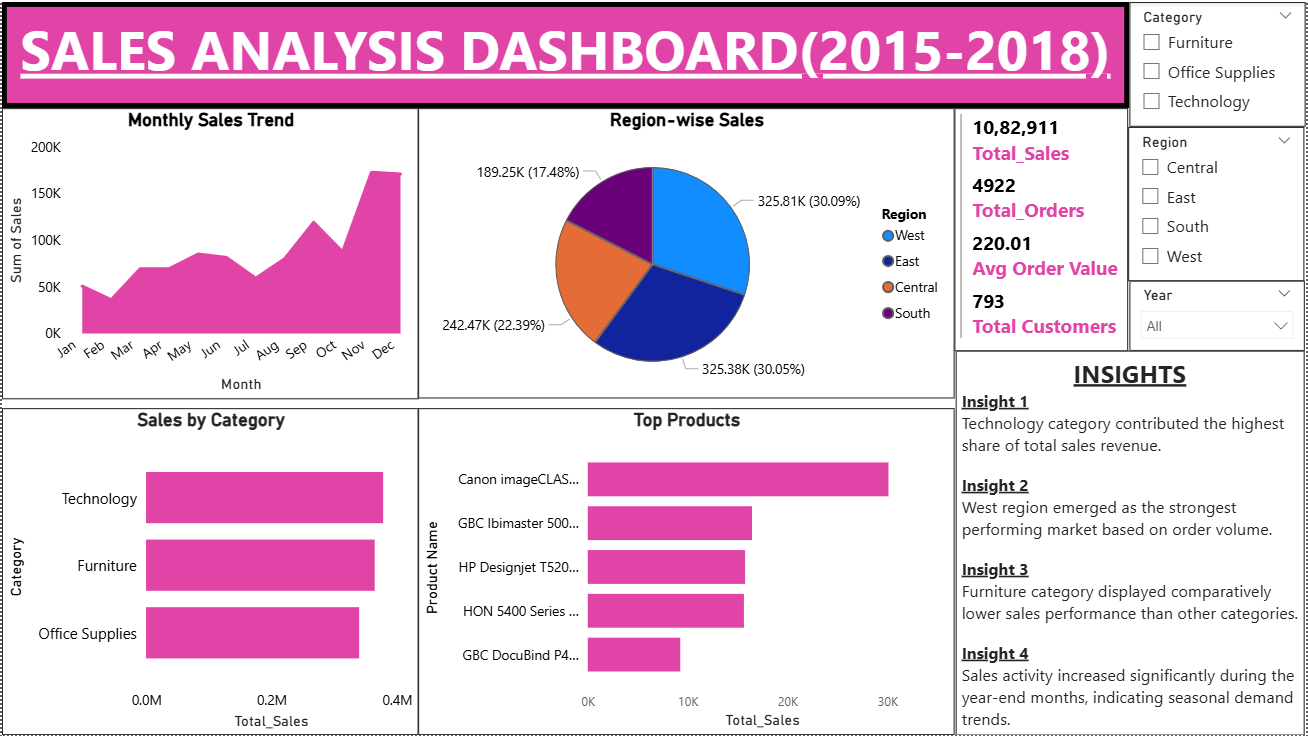

This screenshot's page, from the dashboard's own definition file:
{"tool":"powerbi","page":{"name":"Page 1","canvas":[1280,720],"ordinal":0},"visuals":[{"type":"multiRowCard","fields":{"Values":["train.Total_Sales","train.Total_Orders","train.Average Order Value","train.Total Customers"]},"box":[935,104.3,170.6,238],"z":0},{"type":"textbox","box":[0,0,1106.8,104.3],"z":1},{"type":"lineChart","title":"Monthly Sales Trend","fields":{"Y":["Sum(train.Sales)"],"Category":["train.Month"]},"box":[0,104.3,408.9,285.4],"z":2},{"type":"clusteredBarChart","title":"Sales by Category","fields":{"Y":["train.Total_Sales"],"Category":["train.Category"]},"box":[0,399.3,408.9,321.1],"z":3},{"type":"pieChart","title":"Region-wise Sales","fields":{"Category":["train.Region"],"Y":["train.Total_Sales"]},"box":[409,104,526,285],"z":4},{"type":"clusteredBarChart","title":"Top Products","fields":{"Category":["train.Product Name"],"Y":["train.Total_Sales"]},"box":[409,399,526,321],"z":5},{"type":"slicer","fields":{"Values":["train.Region"]},"box":[1105.5,122.7,173,150.9],"z":6},{"type":"slicer","fields":{"Values":["train.Category"]},"box":[1106.8,0,173,122.7],"z":7},{"type":"slicer","fields":{"Values":["train.Order Date.Variation.Date Hierarchy.Year"]},"box":[1106.8,273.6,171.8,68.7],"z":8},{"type":"textbox","box":[936.2,342.3,342.3,377.9],"z":9}]}

Visuals, with their boxes in screenshot pixels (x1, y1, x2, y2), scaled from the page's 1280x720 canvas onto the 1308x736 screenshot:
multiRowCard - train.Total_Sales x train.Total_Orders: left=955, top=107, right=1130, bottom=350
textbox: left=0, top=0, right=1131, bottom=107
"Monthly Sales Trend" lineChart: left=0, top=107, right=418, bottom=398
"Sales by Category" clusteredBarChart: left=0, top=408, right=418, bottom=735
"Region-wise Sales" pieChart: left=418, top=106, right=955, bottom=398
"Top Products" clusteredBarChart: left=418, top=408, right=955, bottom=735
slicer - train.Region: left=1130, top=125, right=1306, bottom=280
slicer - train.Category: left=1131, top=0, right=1307, bottom=125
slicer - train.Order Date.Variation.Date Hierarchy.Year: left=1131, top=280, right=1307, bottom=350
textbox: left=957, top=350, right=1306, bottom=735
